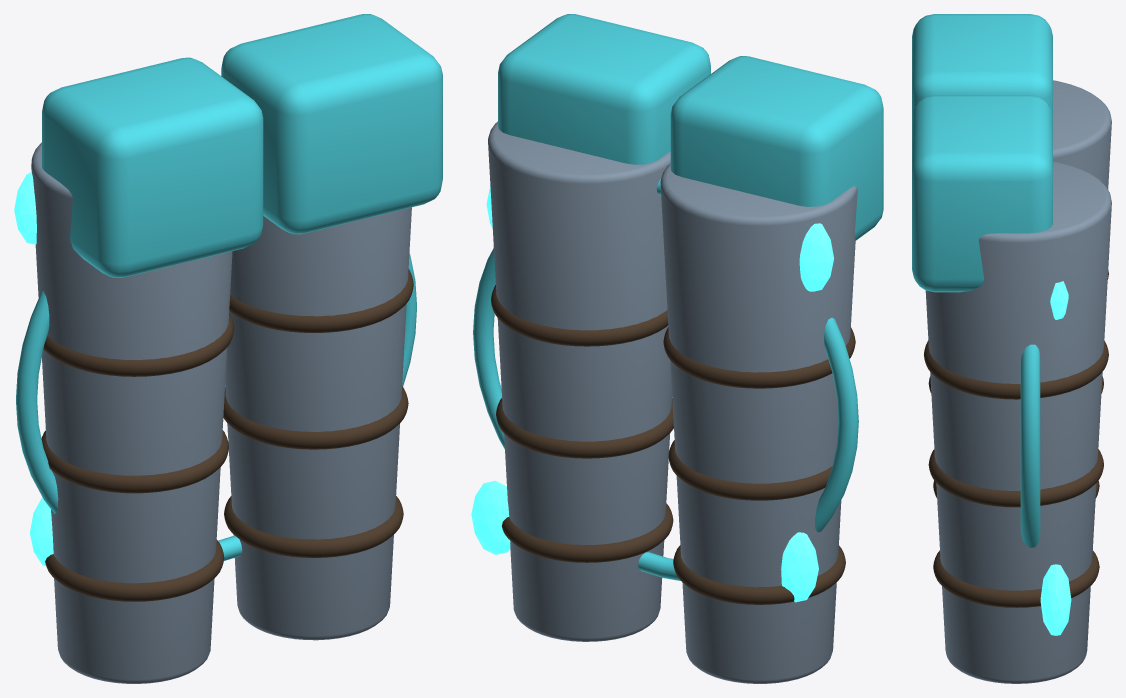
File: greaves_v2.glb
3 renders of one model, left to right at view 1: azimuth 30°, elevation 25°; view 2: azimuth 150°, elevation 25°; view 3: azimuth 270°, elevation 25°, orthographic. The views are drawn at different scales.
Parts seen in each view (by area): view 1: GREAVE_PRIMARY, GREAVE_PRIMARY.001, KNEE_ACCENT, KNEE_ACCENT.001, VARIANT_HALO_ACCENT, GREAVE_BAND_SECONDARY.003, GREAVE_BAND_SECONDARY, GREAVE_BAND_SECONDARY.001, GREAVE_BAND_SECONDARY.004, GREAVE_BAND_SECONDARY.002, GREAVE_BAND_SECONDARY.005, VARIANT_GEM_EMISSIVE.001 (+1 smaller); view 2: GREAVE_PRIMARY.001, GREAVE_PRIMARY, KNEE_ACCENT, KNEE_ACCENT.001, VARIANT_HALO_ACCENT, GREAVE_BAND_SECONDARY.004, GREAVE_BAND_SECONDARY.003, GREAVE_BAND_SECONDARY.002, GREAVE_BAND_SECONDARY.005, GREAVE_BAND_SECONDARY, GREAVE_BAND_SECONDARY.001, VARIANT_GEM_EMISSIVE.003 (+2 smaller); view 3: GREAVE_PRIMARY.001, KNEE_ACCENT.001, KNEE_ACCENT, GREAVE_PRIMARY, VARIANT_HALO_ACCENT, GREAVE_BAND_SECONDARY.004, GREAVE_BAND_SECONDARY.005, GREAVE_BAND_SECONDARY.003, VARIANT_GEM_EMISSIVE.003, VARIANT_GEM_EMISSIVE.
Boxes of the visible parts, box(x1,y1,x2,y2) form: GREAVE_PRIMARY: box(31, 142, 232, 683); GREAVE_PRIMARY.001: box(225, 207, 411, 640); KNEE_ACCENT: box(42, 57, 263, 277); KNEE_ACCENT.001: box(221, 14, 442, 234); VARIANT_HALO_ACCENT: box(16, 253, 416, 560); GREAVE_BAND_SECONDARY.003: box(224, 496, 403, 557); GREAVE_BAND_SECONDARY: box(45, 539, 224, 601); GREAVE_BAND_SECONDARY.001: box(41, 430, 228, 493); GREAVE_BAND_SECONDARY.004: box(223, 386, 408, 449); GREAVE_BAND_SECONDARY.002: box(43, 313, 234, 376); GREAVE_BAND_SECONDARY.005: box(229, 269, 413, 332); VARIANT_GEM_EMISSIVE.001: box(14, 172, 36, 244); GREAVE_PRIMARY.001: box(488, 121, 672, 641); GREAVE_PRIMARY: box(660, 163, 857, 683); KNEE_ACCENT: box(670, 56, 883, 240); KNEE_ACCENT.001: box(498, 14, 710, 164); VARIANT_HALO_ACCENT: box(473, 179, 858, 580); GREAVE_BAND_SECONDARY.004: box(496, 398, 673, 458); GREAVE_BAND_SECONDARY.003: box(502, 503, 673, 562); GREAVE_BAND_SECONDARY.002: box(663, 327, 855, 388); GREAVE_BAND_SECONDARY.005: box(491, 285, 668, 346); GREAVE_BAND_SECONDARY: box(673, 545, 845, 604); GREAVE_BAND_SECONDARY.001: box(668, 440, 832, 500); VARIANT_GEM_EMISSIVE.003: box(471, 480, 510, 554); GREAVE_PRIMARY.001: box(925, 161, 1111, 683); KNEE_ACCENT.001: box(912, 95, 1052, 292); KNEE_ACCENT: box(912, 14, 1052, 116); GREAVE_PRIMARY: box(1053, 80, 1111, 189); VARIANT_HALO_ACCENT: box(1020, 344, 1040, 547); GREAVE_BAND_SECONDARY.004: box(928, 449, 1103, 507); GREAVE_BAND_SECONDARY.005: box(924, 340, 1108, 399); GREAVE_BAND_SECONDARY.003: box(933, 550, 1099, 607); VARIANT_GEM_EMISSIVE.003: box(1040, 564, 1071, 635); VARIANT_GEM_EMISSIVE: box(1050, 281, 1068, 319).
Bounding box in the file's own units: 1.51 × 2.08 × 0.7088.
